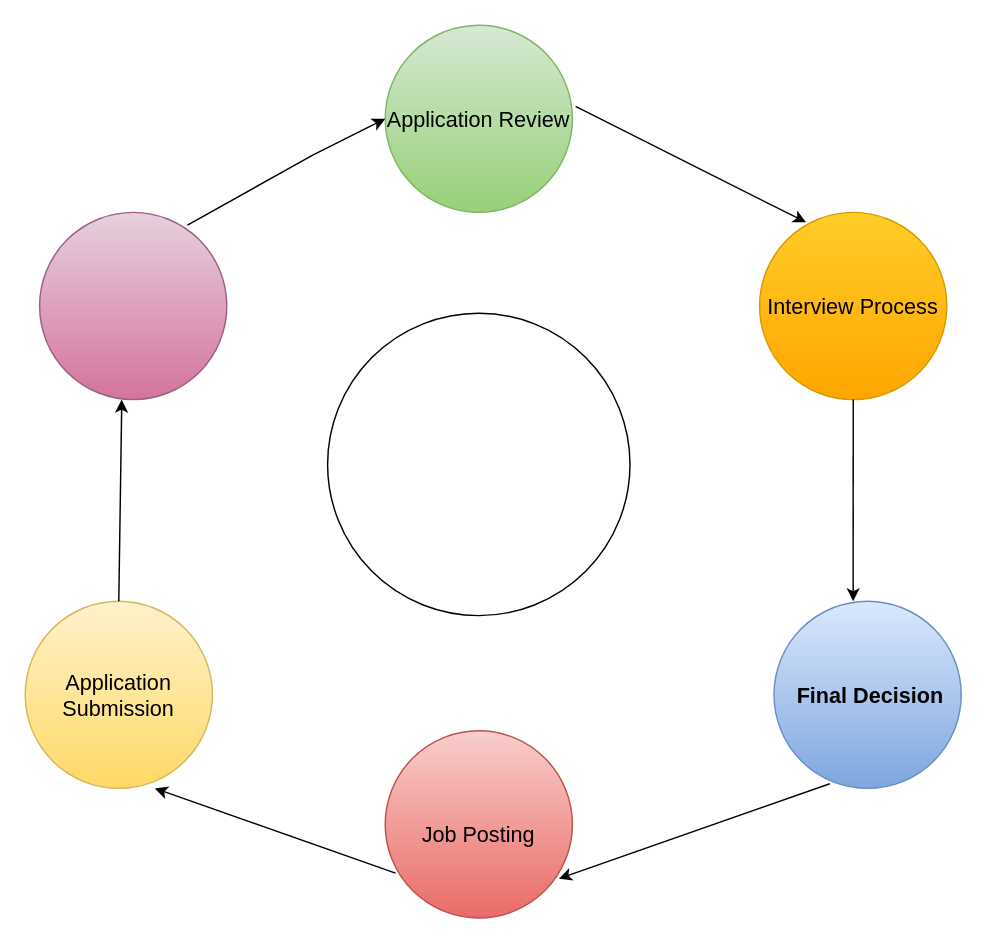
Image size: 986x943. Some labels were removed from this diagram. Each missing label, with the box of its shape:
Acknowledgment: (38, 211, 227, 400)
Job Application: (326, 312, 630, 616)
